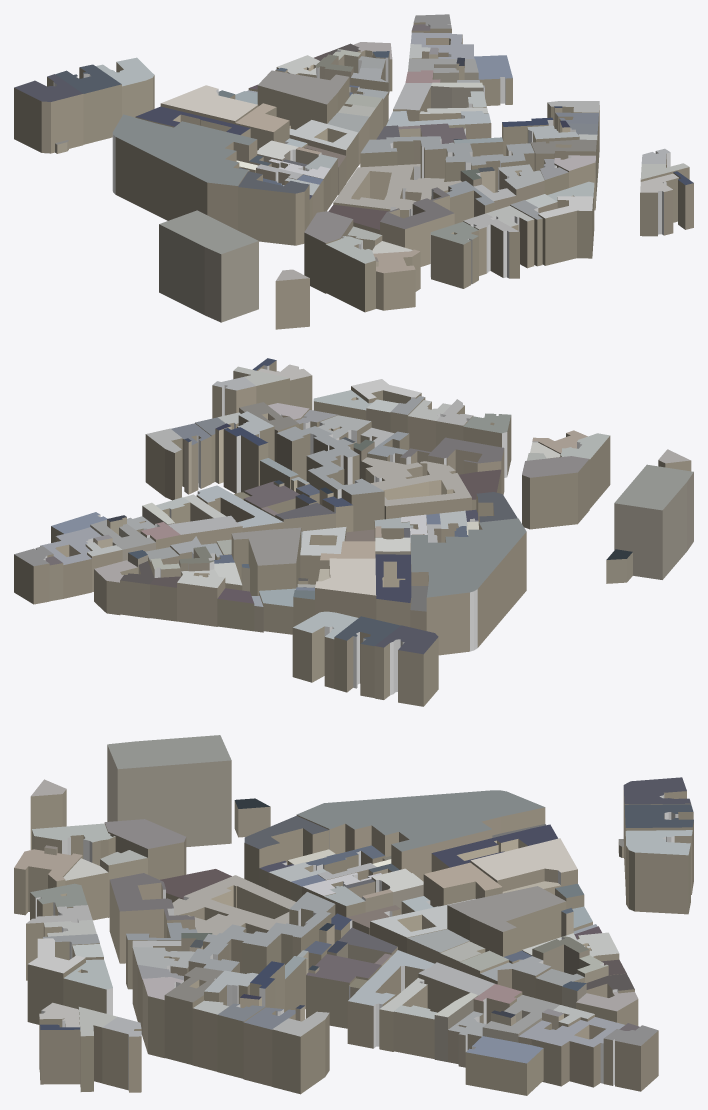
3 renders of one model, top to bottom at view 1: azimuth 30°, elevation 25°; view 2: azimuth 150°, elevation 25°; view 3: azimuth 270°, elevation 25°, orthographic. The views are drawn at different scales.
Parts seen in each view (by area): view 1: tuile; view 2: tuile; view 3: tuile.
Boxes of the visible parts, x1,y1,x2,y2 form: tuile: (14, 14, 693, 329); tuile: (14, 358, 693, 706); tuile: (14, 735, 693, 1095).
Bounding box in the file's own units: 260 × 36.56 × 266.
